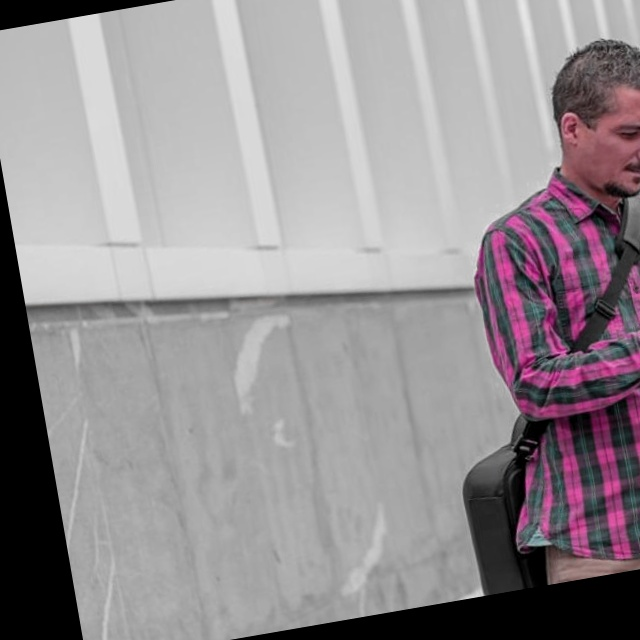Sin_Casco_Mascarrilla: (543, 28, 640, 206)
Sin_Chaleco: (459, 181, 640, 579)
